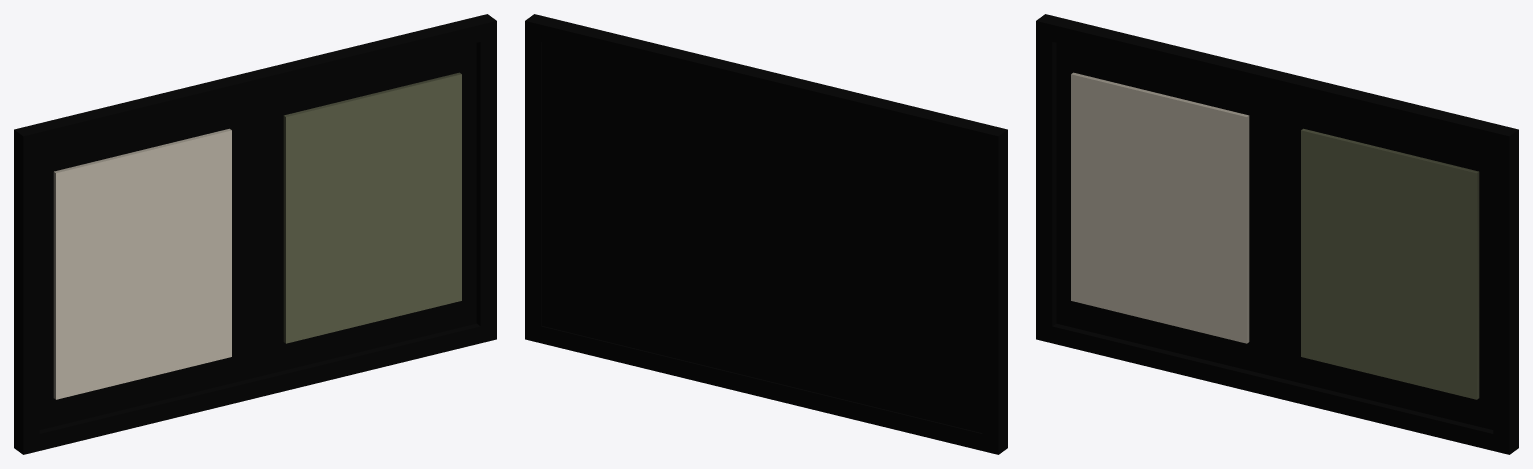
Rendered from picture_frame_wide.glb.
3 views of the same model, side by side, from view 1: azimuth 30°, elevation 25°; view 2: azimuth 150°, elevation 25°; view 3: azimuth 330°, elevation 25° (orthographic).
Visible parts, largest first — view 1: picture_frame_wide; view 2: picture_frame_wide; view 3: picture_frame_wide.
Part boxes in pixels (x1=…): picture_frame_wide: x1=14, y1=14, x2=496, y2=454; picture_frame_wide: x1=525, y1=14, x2=1007, y2=454; picture_frame_wide: x1=1036, y1=14, x2=1518, y2=454.
Size of the model in its own units: 0.7 by 0.45 by 0.024.
